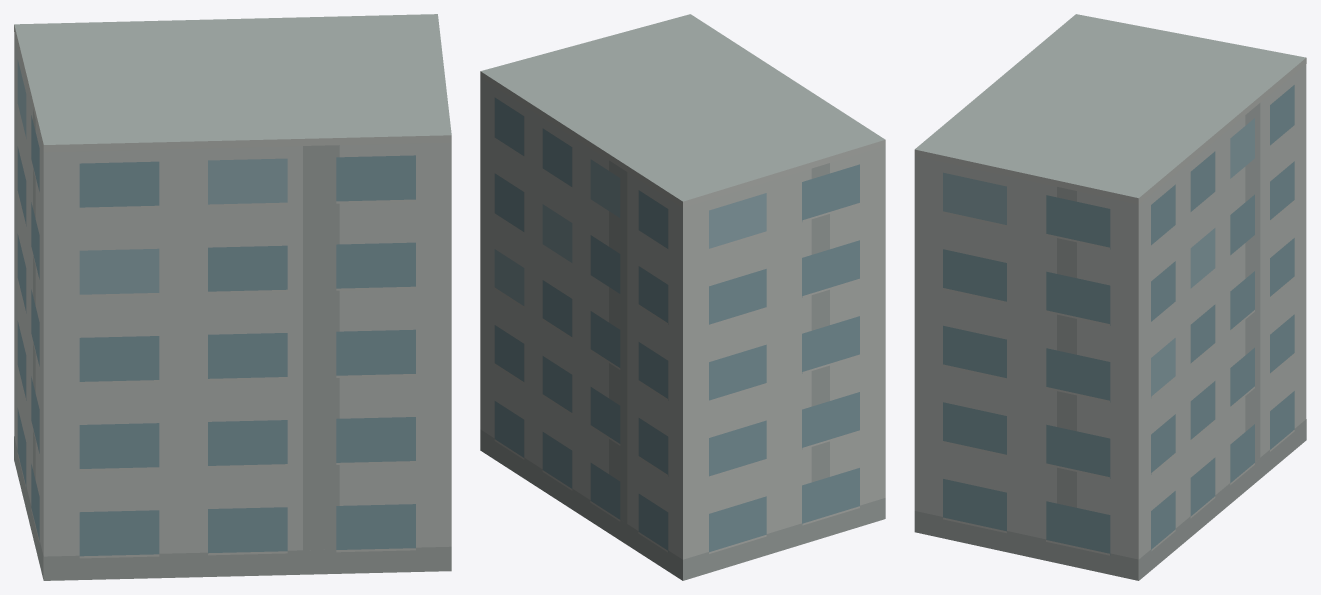
Rendered from survey-upis-32911883.glb.
3 renders of one model, left to right at view 1: azimuth 30°, elevation 25°; view 2: azimuth 150°, elevation 25°; view 3: azimuth 270°, elevation 25°, orthographic. The views are drawn at different scales.
Parts seen in each view (by area): view 1: survey-upis-32911883.tmp; view 2: survey-upis-32911883.tmp; view 3: survey-upis-32911883.tmp.
Boxes of the visible parts, x1,y1,x2,y2 form: survey-upis-32911883.tmp: (14,14,451,580); survey-upis-32911883.tmp: (480,14,885,580); survey-upis-32911883.tmp: (914,14,1306,580).
Size of the model in its own units: 15.29 by 14.8 by 13.74.
